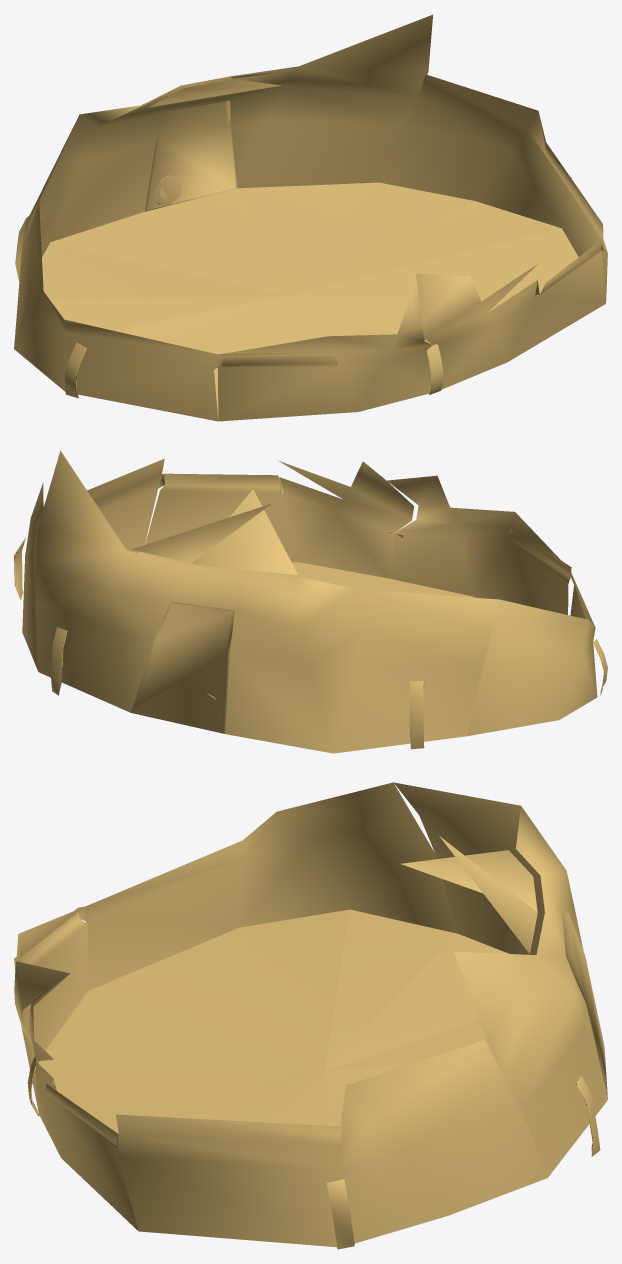
Rendered from hip.glb.
The picture shows the model from 3 angles, top to bottom: view 1: azimuth 30°, elevation 25°; view 2: azimuth 150°, elevation 25°; view 3: azimuth 270°, elevation 25°; orthographic projection. The views are drawn at different scales.
Parts seen in each view (by area): view 1: trousers-yellow_HIP; view 2: trousers-yellow_HIP; view 3: trousers-yellow_HIP.
Boxes of the visible parts, x1,y1,x2,y2 form: trousers-yellow_HIP: (14,14,607,421); trousers-yellow_HIP: (14,450,607,753); trousers-yellow_HIP: (14,782,607,1249).
Bounding box in the file's own units: 0.4339 × 0.1591 × 0.3264.
Materials: 1 (1 with a texture image).
